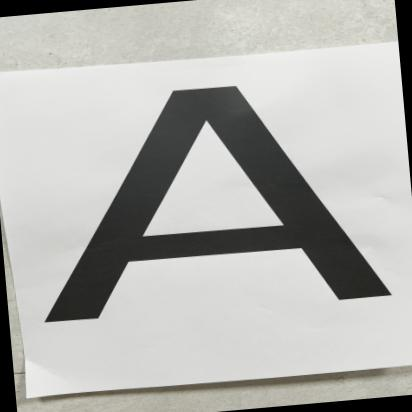seat: (43, 61, 412, 340)
